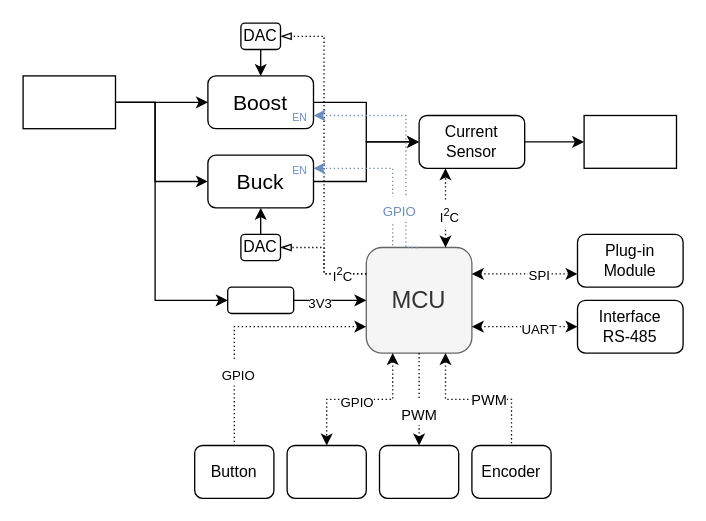
The diagram is 706 pixels wide and 521 high, and some of its shapes have lost their labels. The centre of each missing label's shape, as x and y in pixels:
"Buzzer" goes at pixel 418 471.
"DC Power Input" goes at pixel 69 102.
"Display" goes at pixel 326 471.
"LDO" goes at pixel 260 300.
"Output" goes at pixel 629 141.
